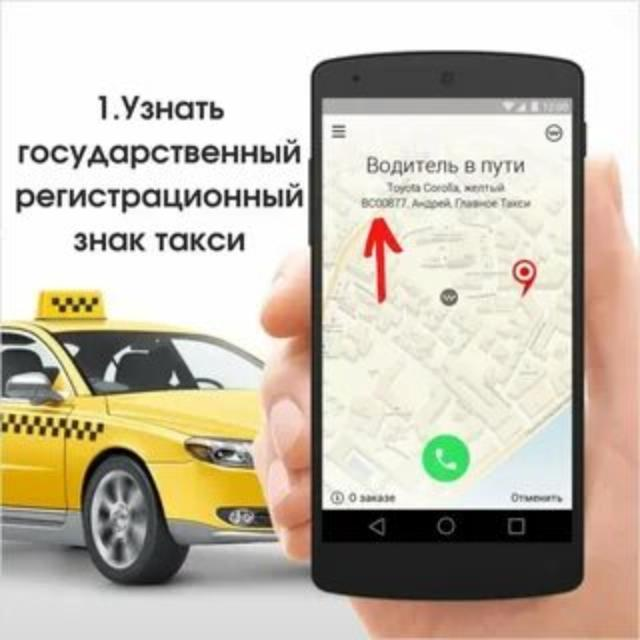taxi: (1, 289, 287, 585)
